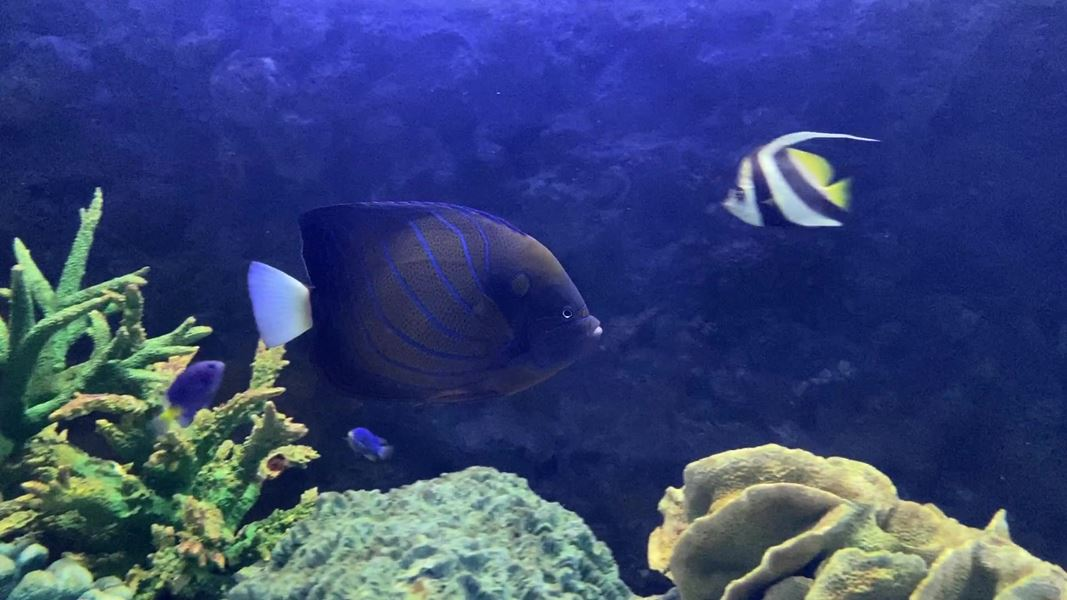Blue ring angelfish: (231, 197, 613, 438)
